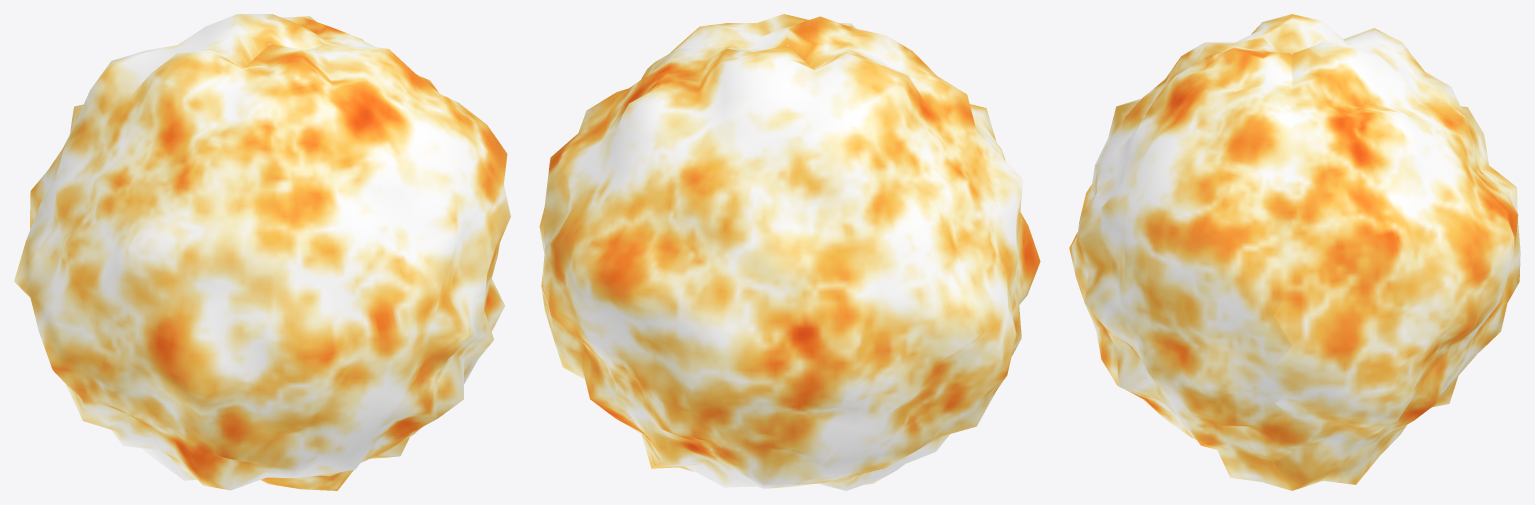
File: fireball_fire.glb
3 views of the same model, side by side, from view 1: azimuth 30°, elevation 25°; view 2: azimuth 150°, elevation 25°; view 3: azimuth 270°, elevation 25° (orthographic). The views are drawn at different scales.
Parts seen in each view (by area): view 1: fireball; view 2: fireball; view 3: fireball.
Boxes of the visible parts, x1,y1,x2,y2 form: fireball: (14,14,510,490); fireball: (539,14,1040,490); fireball: (1069,14,1520,490).
Size of the model in its own units: 2.29 by 2.14 by 2.2.
Materials: 1 (1 with a texture image).
